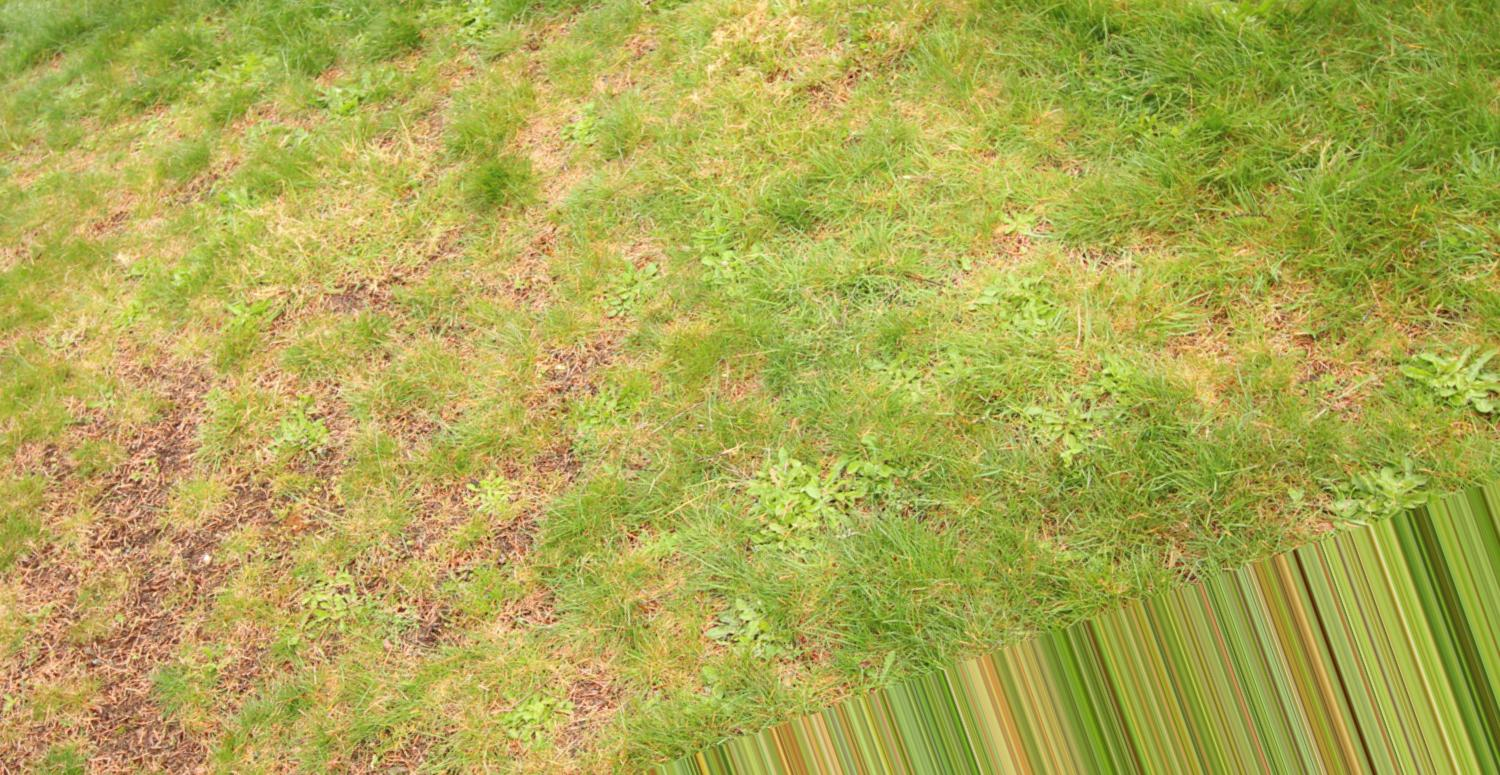patch: (66, 376, 214, 750), (413, 491, 528, 551), (746, 17, 835, 80), (332, 259, 459, 303)
